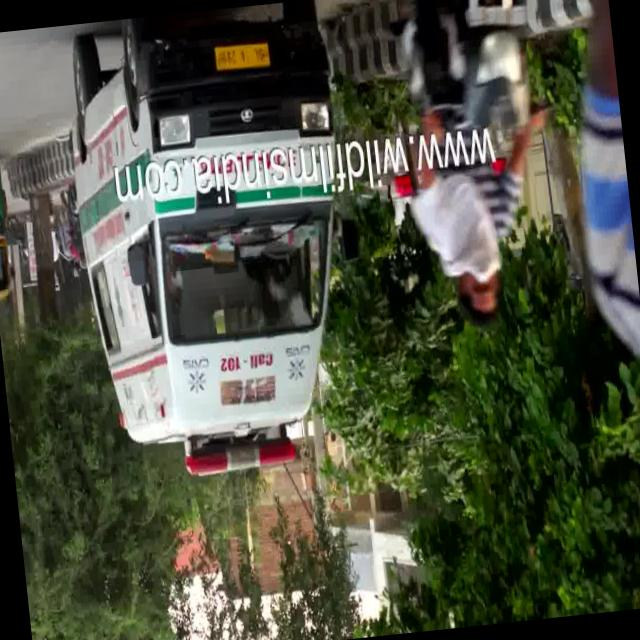ambulance: (88, 196, 366, 504)
